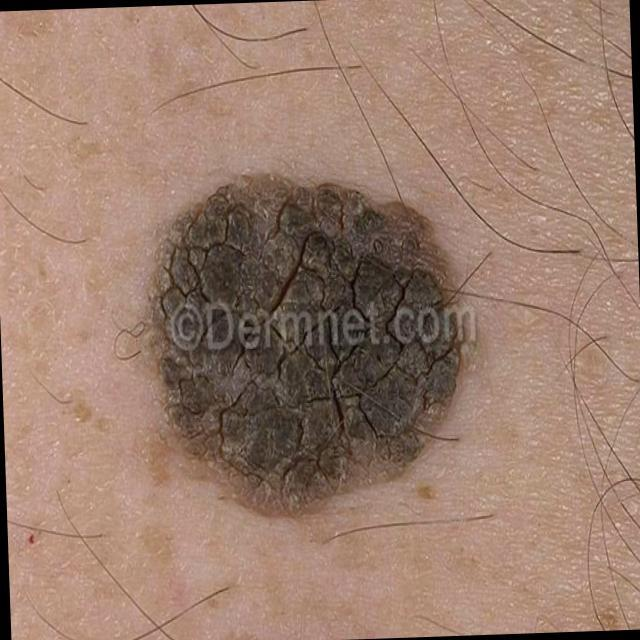Eczema: (137, 170, 453, 515)
